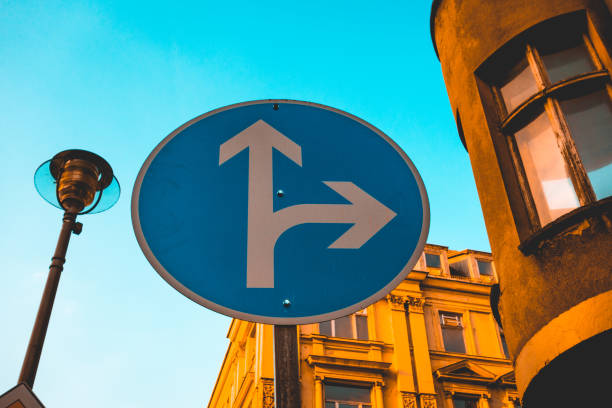ileri_veya_saga: (129, 96, 437, 325)
